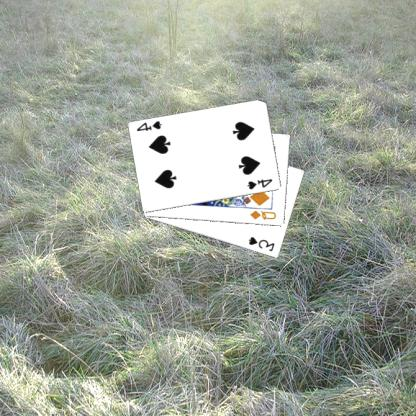3S: (248, 234, 278, 253)
4S: (246, 176, 276, 192), (136, 118, 165, 133)
QD: (249, 207, 279, 222)
